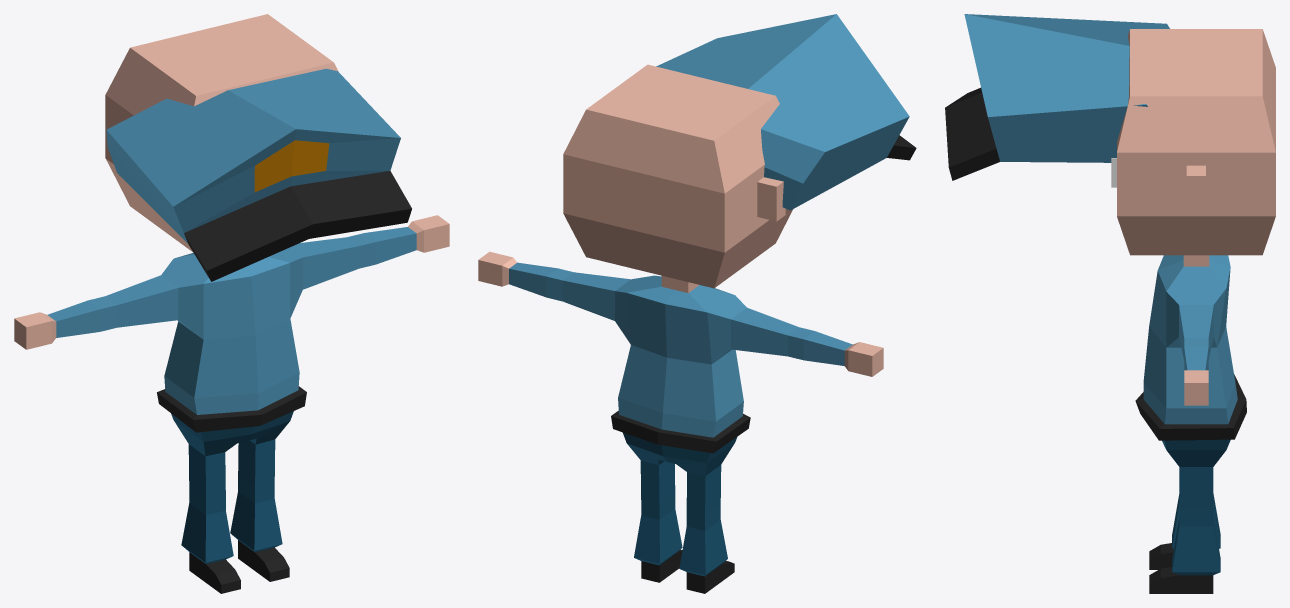
Rendered from PoliceOfficer.gltf.
3 views of the same model, side by side, from view 1: azimuth 30°, elevation 25°; view 2: azimuth 150°, elevation 25°; view 3: azimuth 270°, elevation 25° (orthographic). The views are drawn at different scales.
Parts seen in each view (by area): view 1: Police, PoliceHat; view 2: Police, PoliceHat; view 3: Police, PoliceHat.
Boxes of the visible parts, x1,y1,x2,y2 form: Police: (14, 14, 449, 593); PoliceHat: (106, 68, 411, 281); Police: (478, 64, 883, 593); PoliceHat: (656, 14, 916, 210); Police: (1111, 29, 1275, 593); PoliceHat: (945, 14, 1169, 180).
Bounding box in the file's own units: 1.3 × 1.58 × 0.8791.
1 material, 1 textured.
